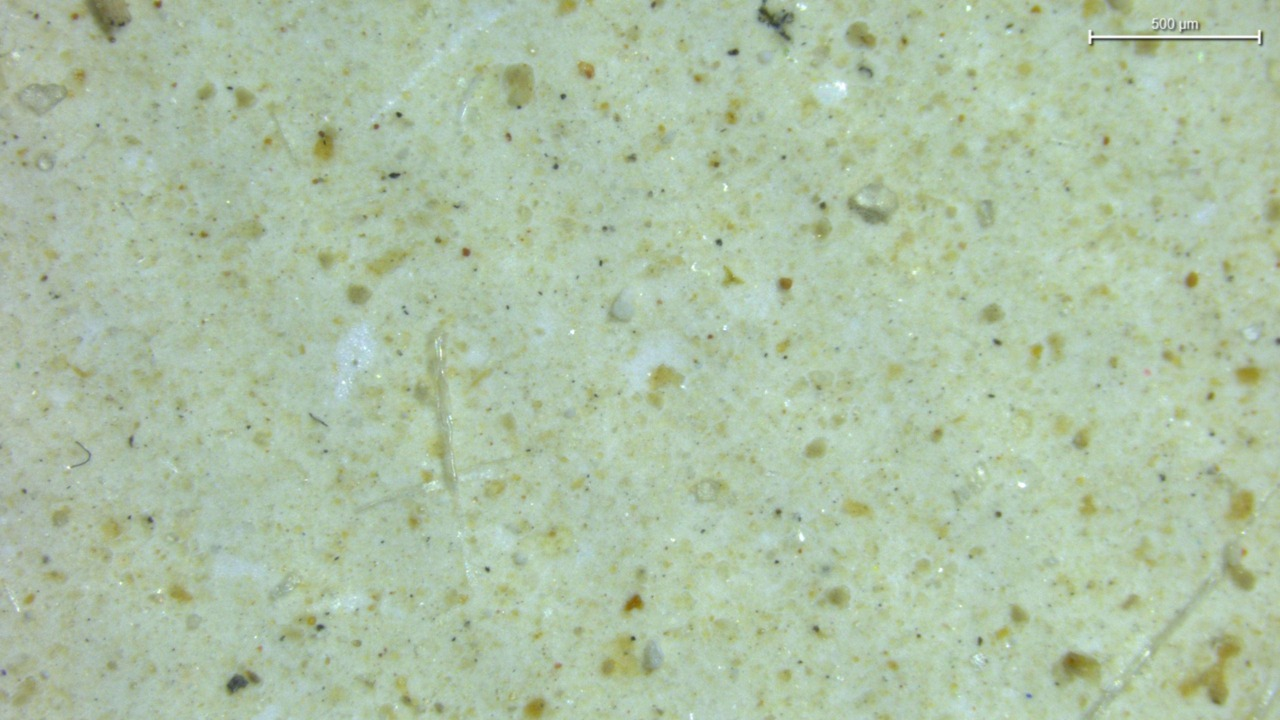microplastic_fragment: (848, 182, 898, 224), (610, 289, 634, 321)
